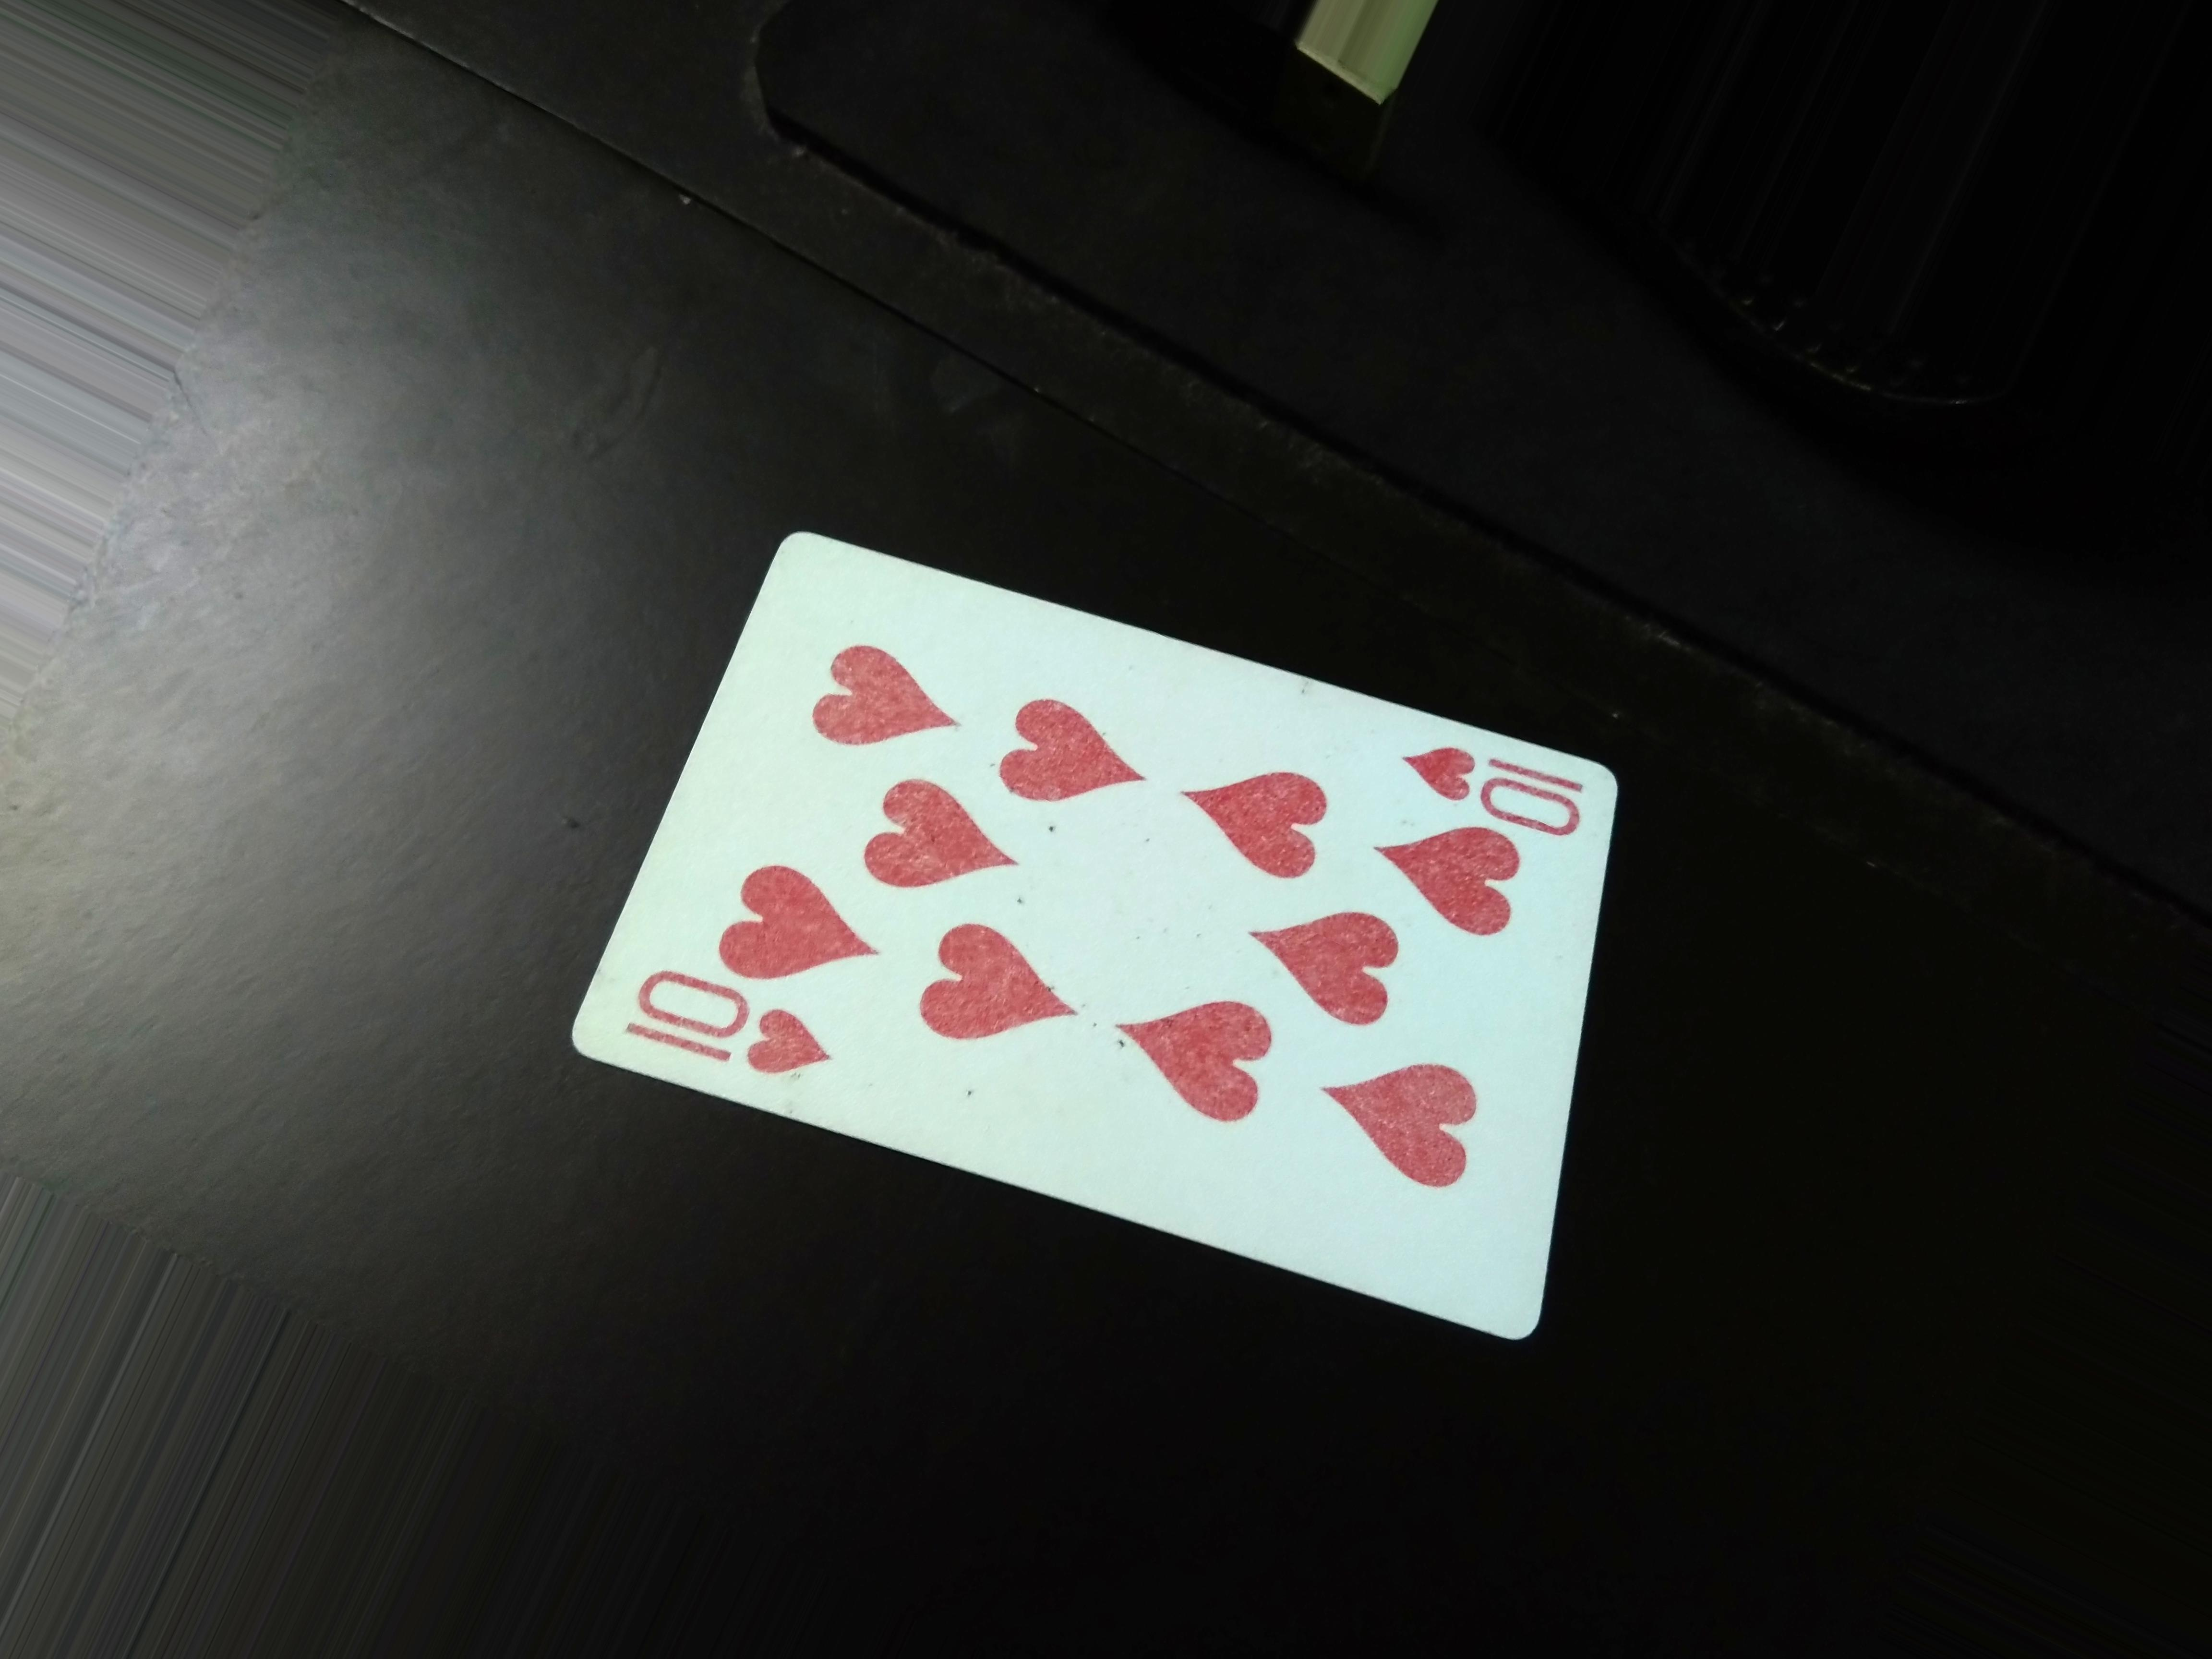10H: (622, 955, 873, 1110)
